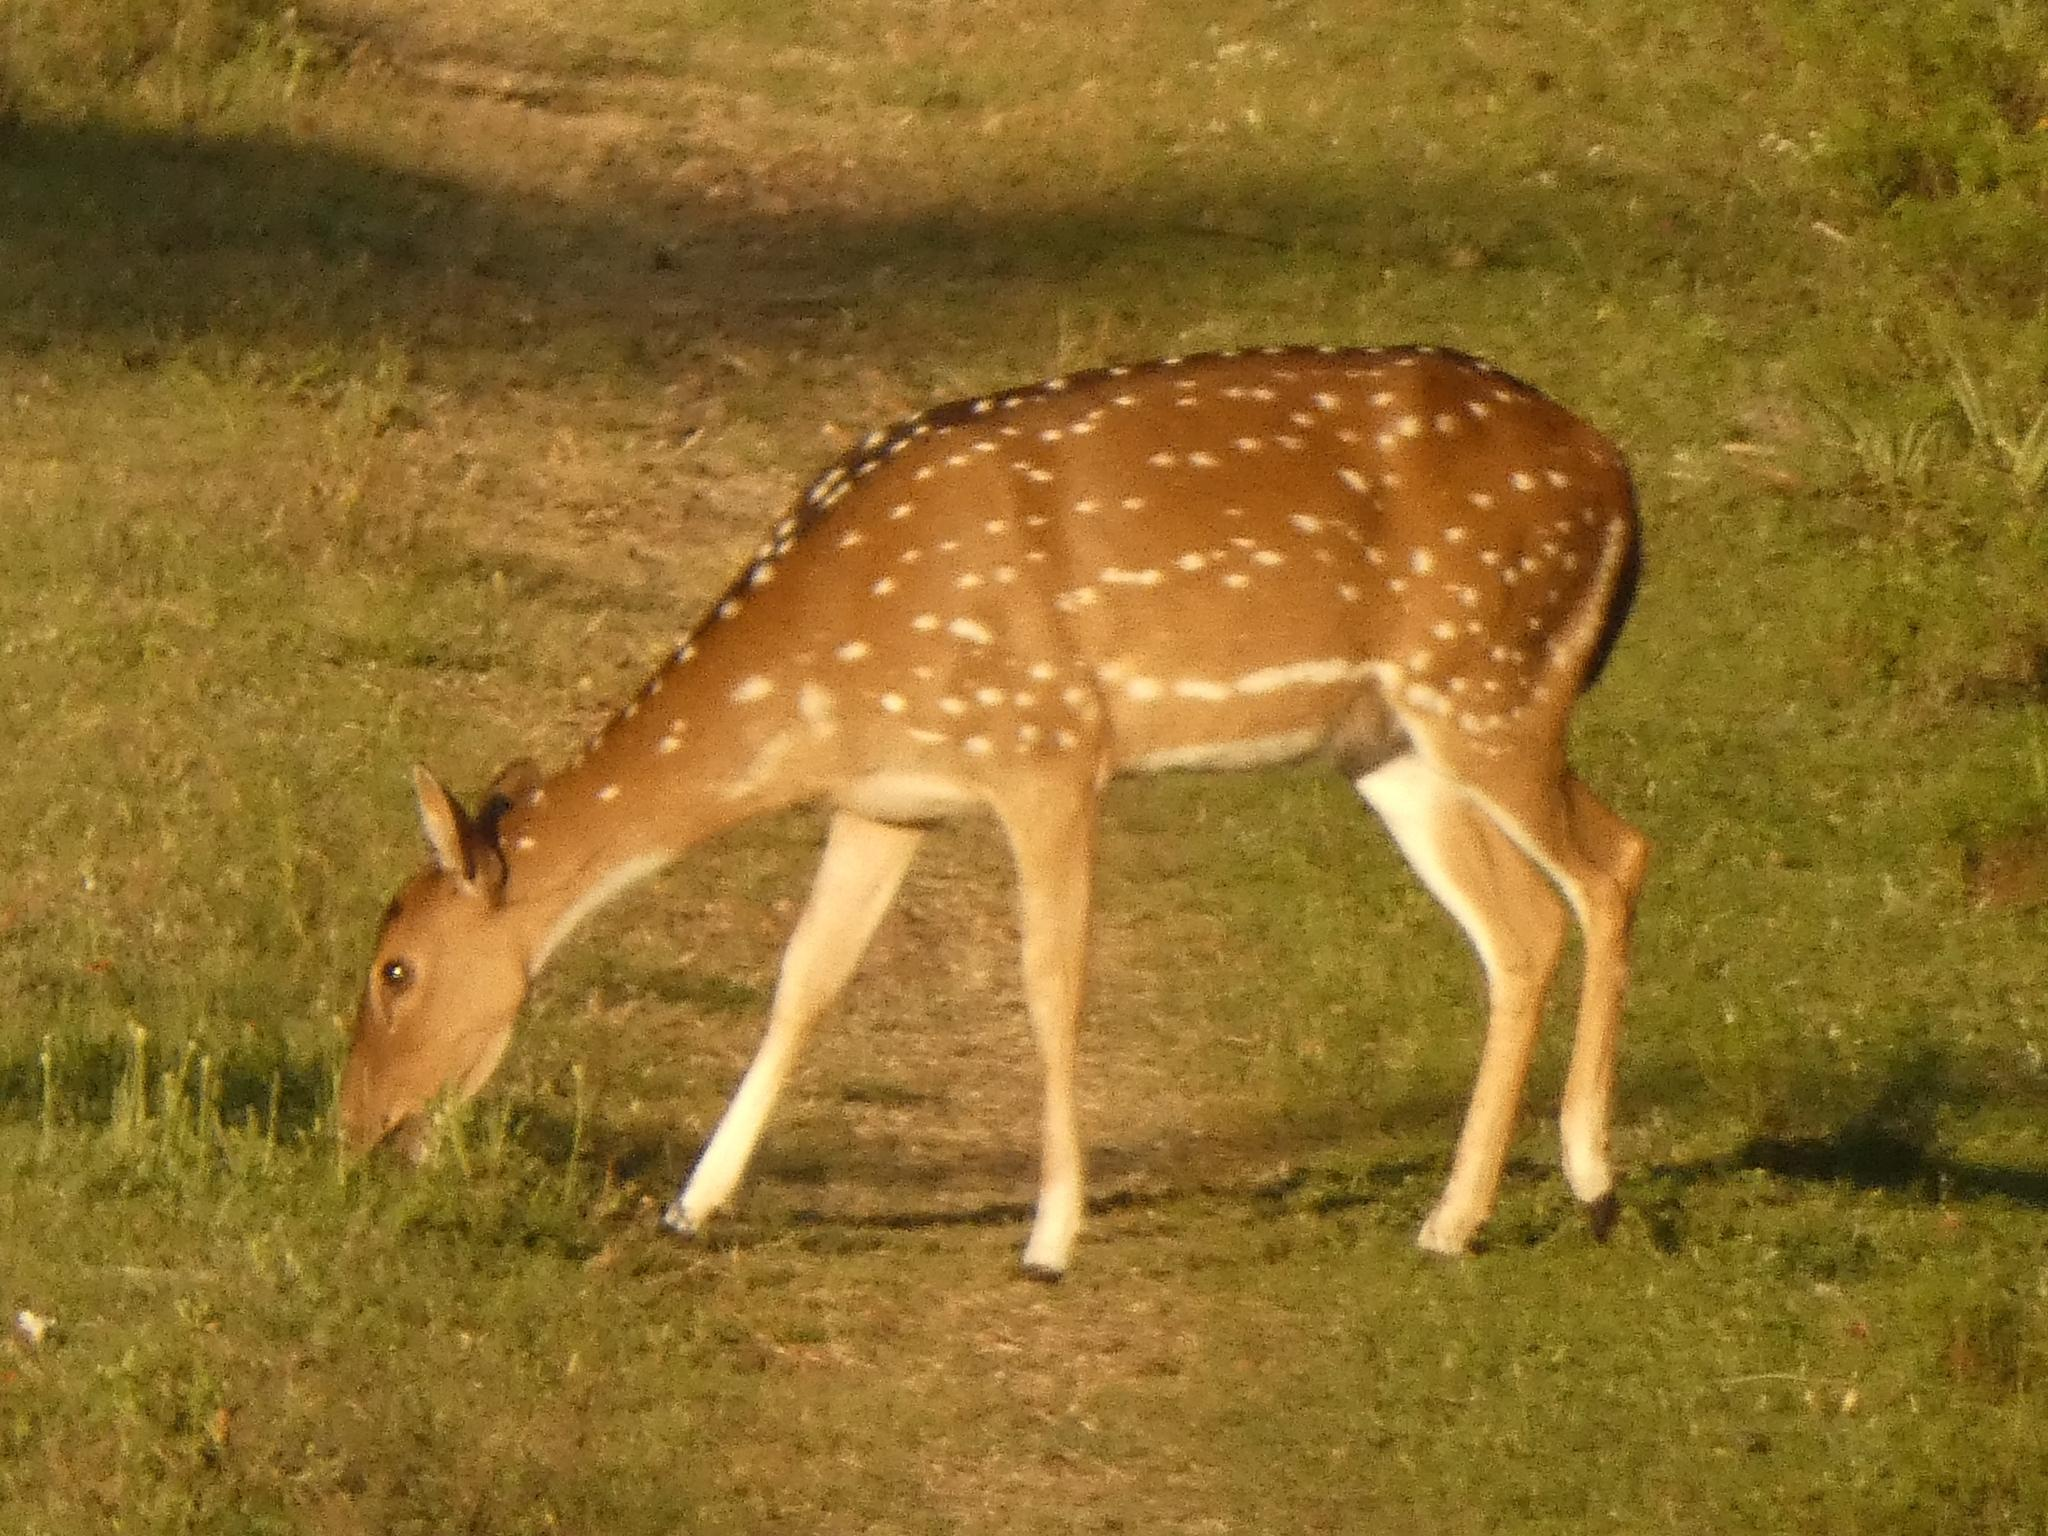Deer: (339, 347, 1646, 1275)
